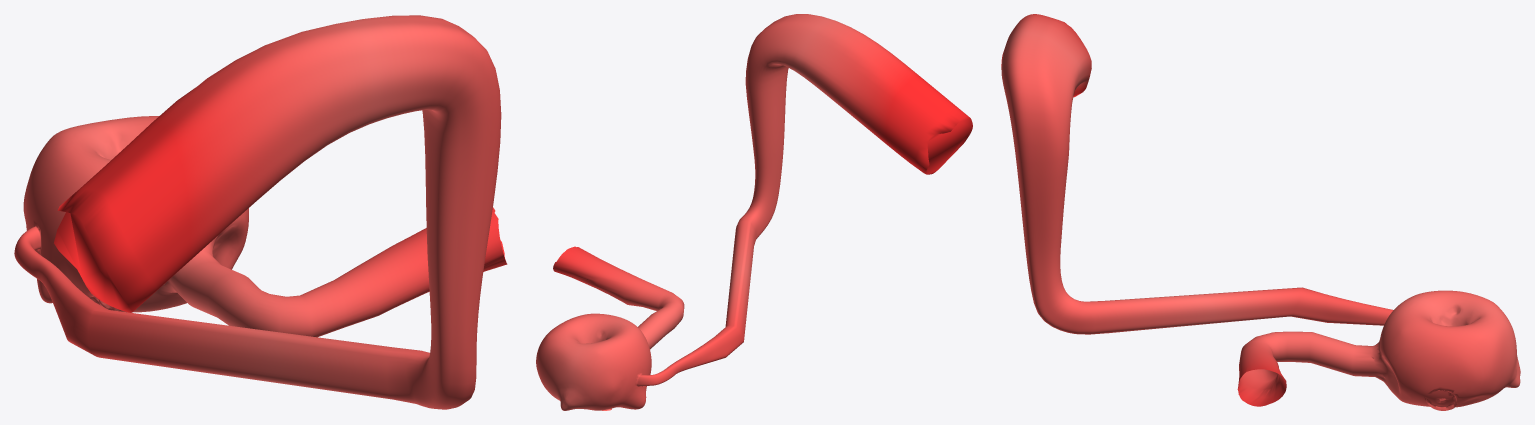
File: Heart S  Oxinated Updated .fbx
The picture shows the model from 3 angles, left to right: view 1: azimuth 30°, elevation 25°; view 2: azimuth 150°, elevation 25°; view 3: azimuth 270°, elevation 25°; orthographic projection. The views are drawn at different scales.
Parts seen in each view (by area): view 1: Left_Heart.002; view 2: Left_Heart.002; view 3: Left_Heart.002.
Part boxes in pixels (<box>): Left_Heart.002: <box>14,15,507,409</box>; Left_Heart.002: <box>536,14,972,410</box>; Left_Heart.002: <box>1001,14,1520,410</box>.
Bounding box in the file's own units: 11250 × 9343 × 13354.
